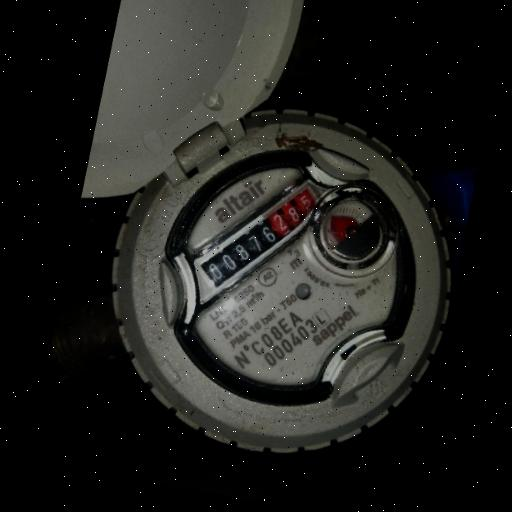0: (195, 252, 234, 290), (209, 244, 246, 281)
2: (260, 206, 298, 243)
5: (285, 184, 325, 224)
6: (248, 215, 286, 252)
7: (235, 224, 273, 263)
8: (221, 233, 260, 272), (274, 197, 310, 233)
border_water_meter_number: (166, 130, 363, 336)
